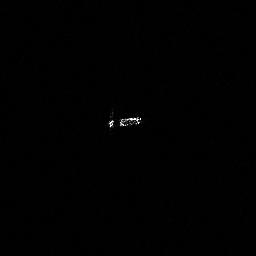ship: (104, 112, 143, 132)
